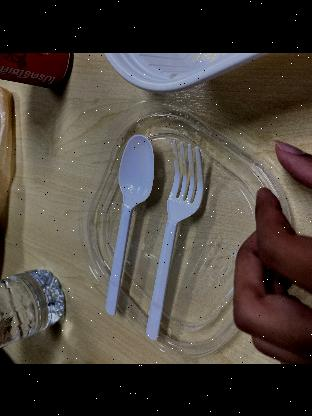Others: (139, 136, 215, 340), (100, 124, 156, 327)
